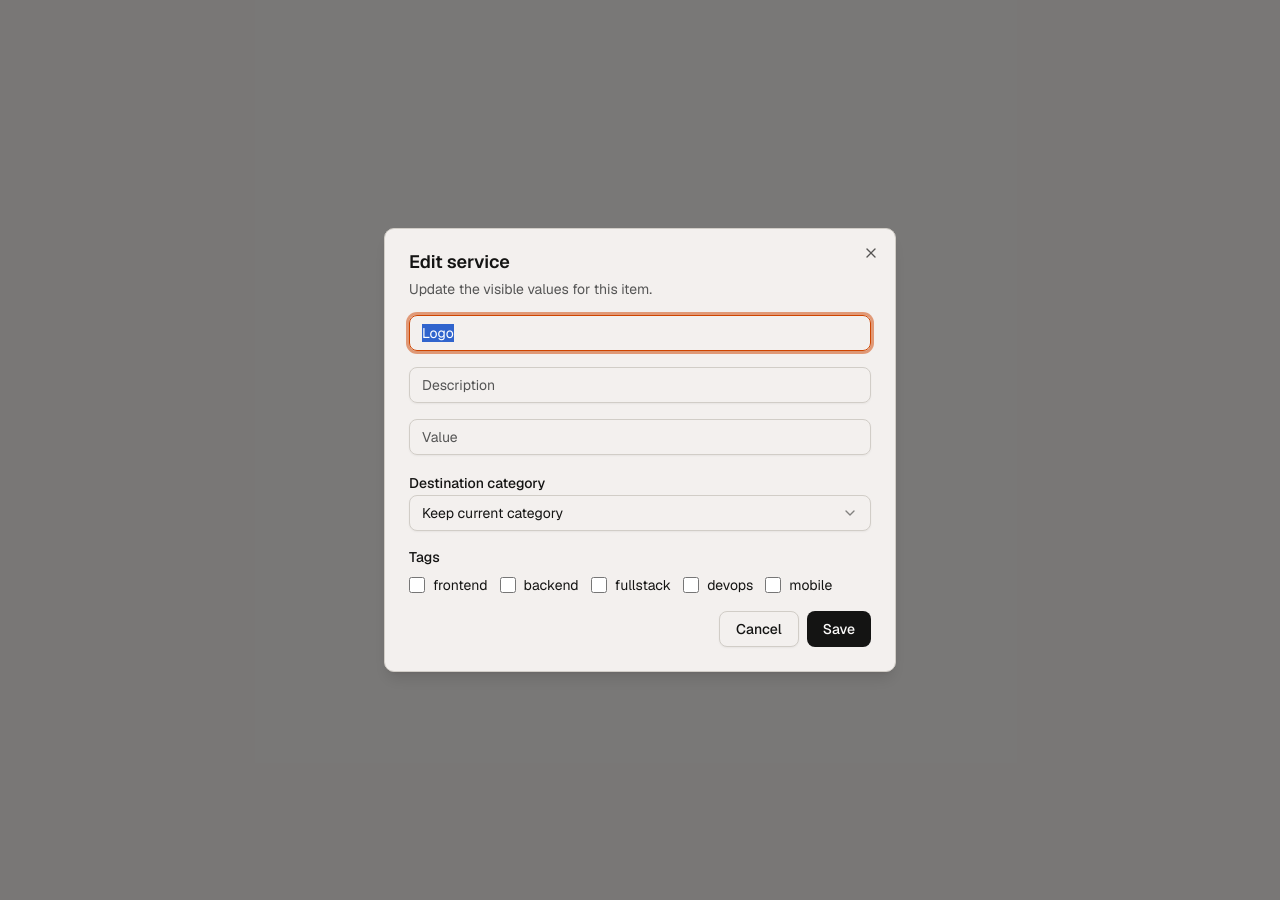
Test case: CatalogItemDialog — move-service destination selector › lists other categoria forks and excludes the current parent
Click the dropdown named "Destination category": (493, 513) [409, 495, 871, 531]
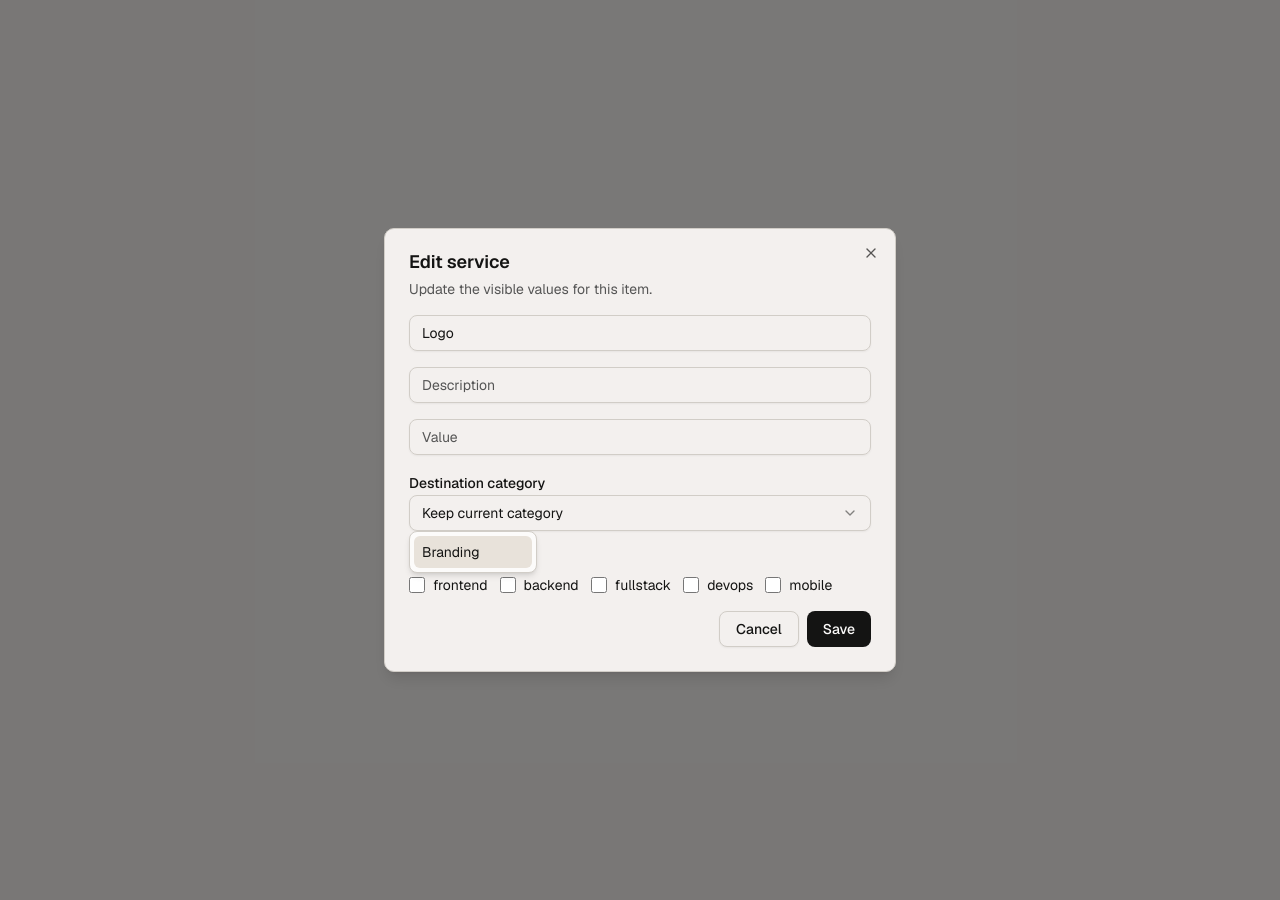
expect the option "Branding" is shown: met, box [414, 536, 532, 568]
